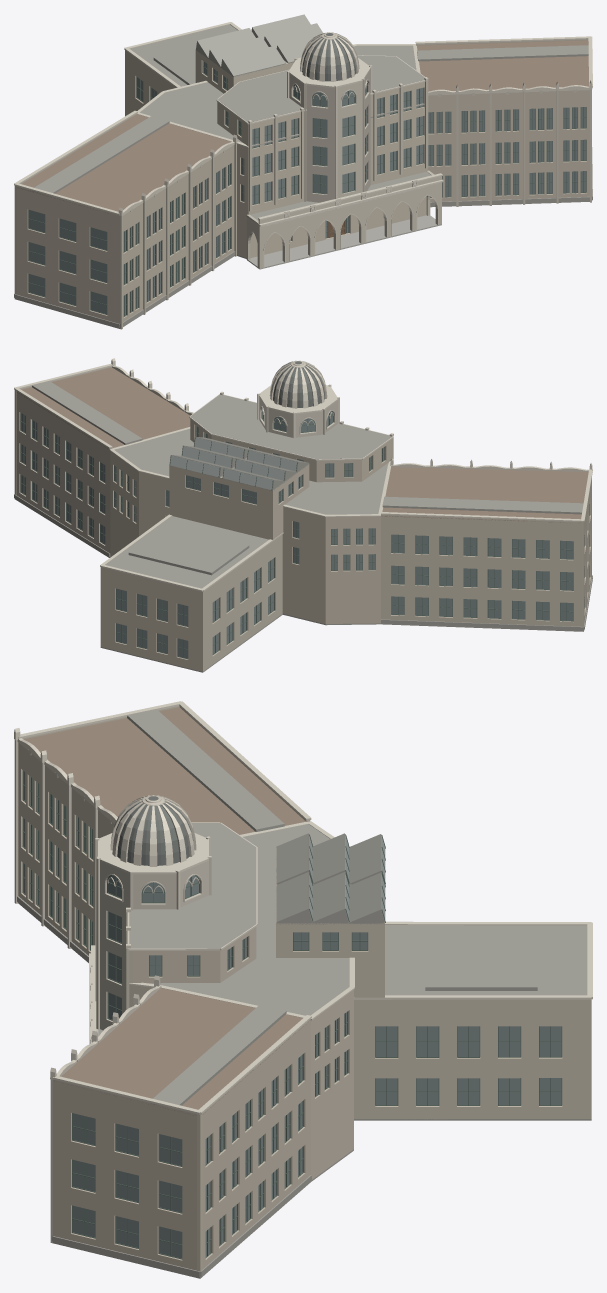
The model's file is hongkou-lester-institute-lod.glb.
3 views of the same model, one above another, from view 1: azimuth 30°, elevation 25°; view 2: azimuth 150°, elevation 25°; view 3: azimuth 270°, elevation 25° (orthographic). The views are drawn at different scales.
Visible parts, largest first — view 1: 雷氏德工学院（东长治路505号主楼）; view 2: 雷氏德工学院（东长治路505号主楼）; view 3: 雷氏德工学院（东长治路505号主楼）.
Boxes of the visible parts, left/top/right/bottom form: 雷氏德工学院（东长治路505号主楼）: left=14, top=14, right=592, bottom=329; 雷氏德工学院（东长治路505号主楼）: left=14, top=358, right=592, bottom=672; 雷氏德工学院（东长治路505号主楼）: left=14, top=701, right=592, bottom=1278.
Bounding box in the file's own units: 100 × 32.33 × 59.59.
